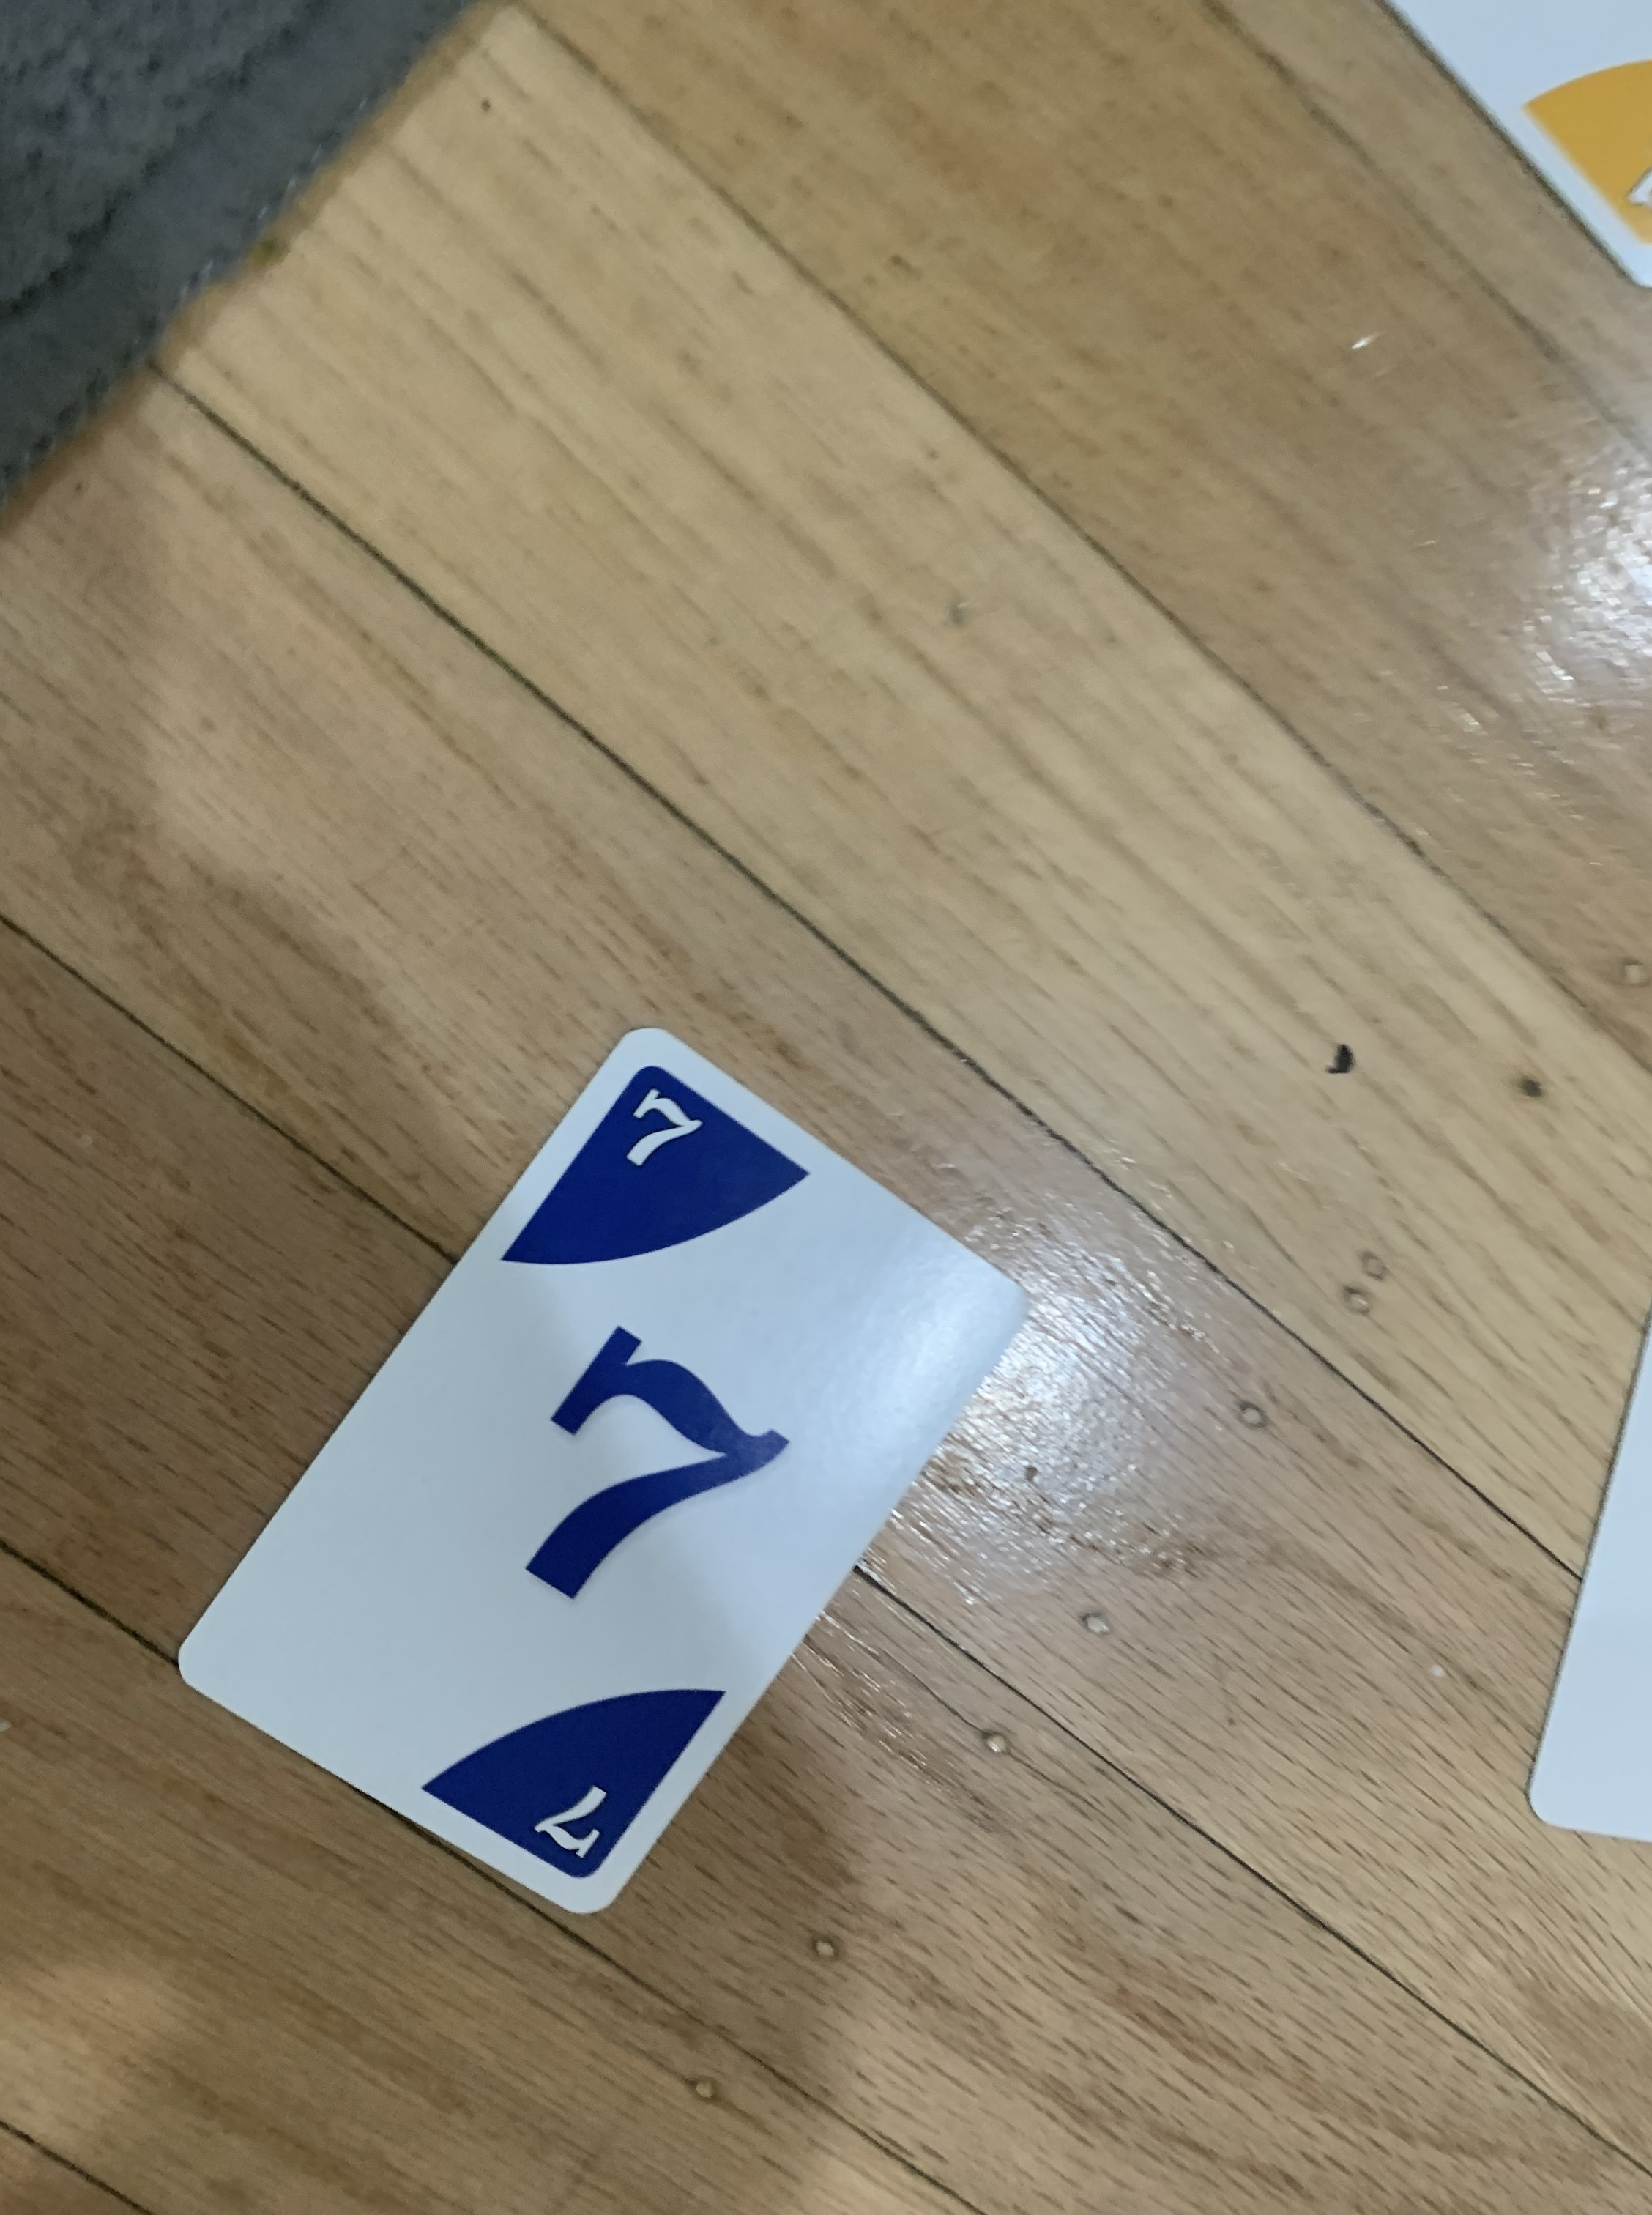seven: (168, 1019, 1052, 1927)
